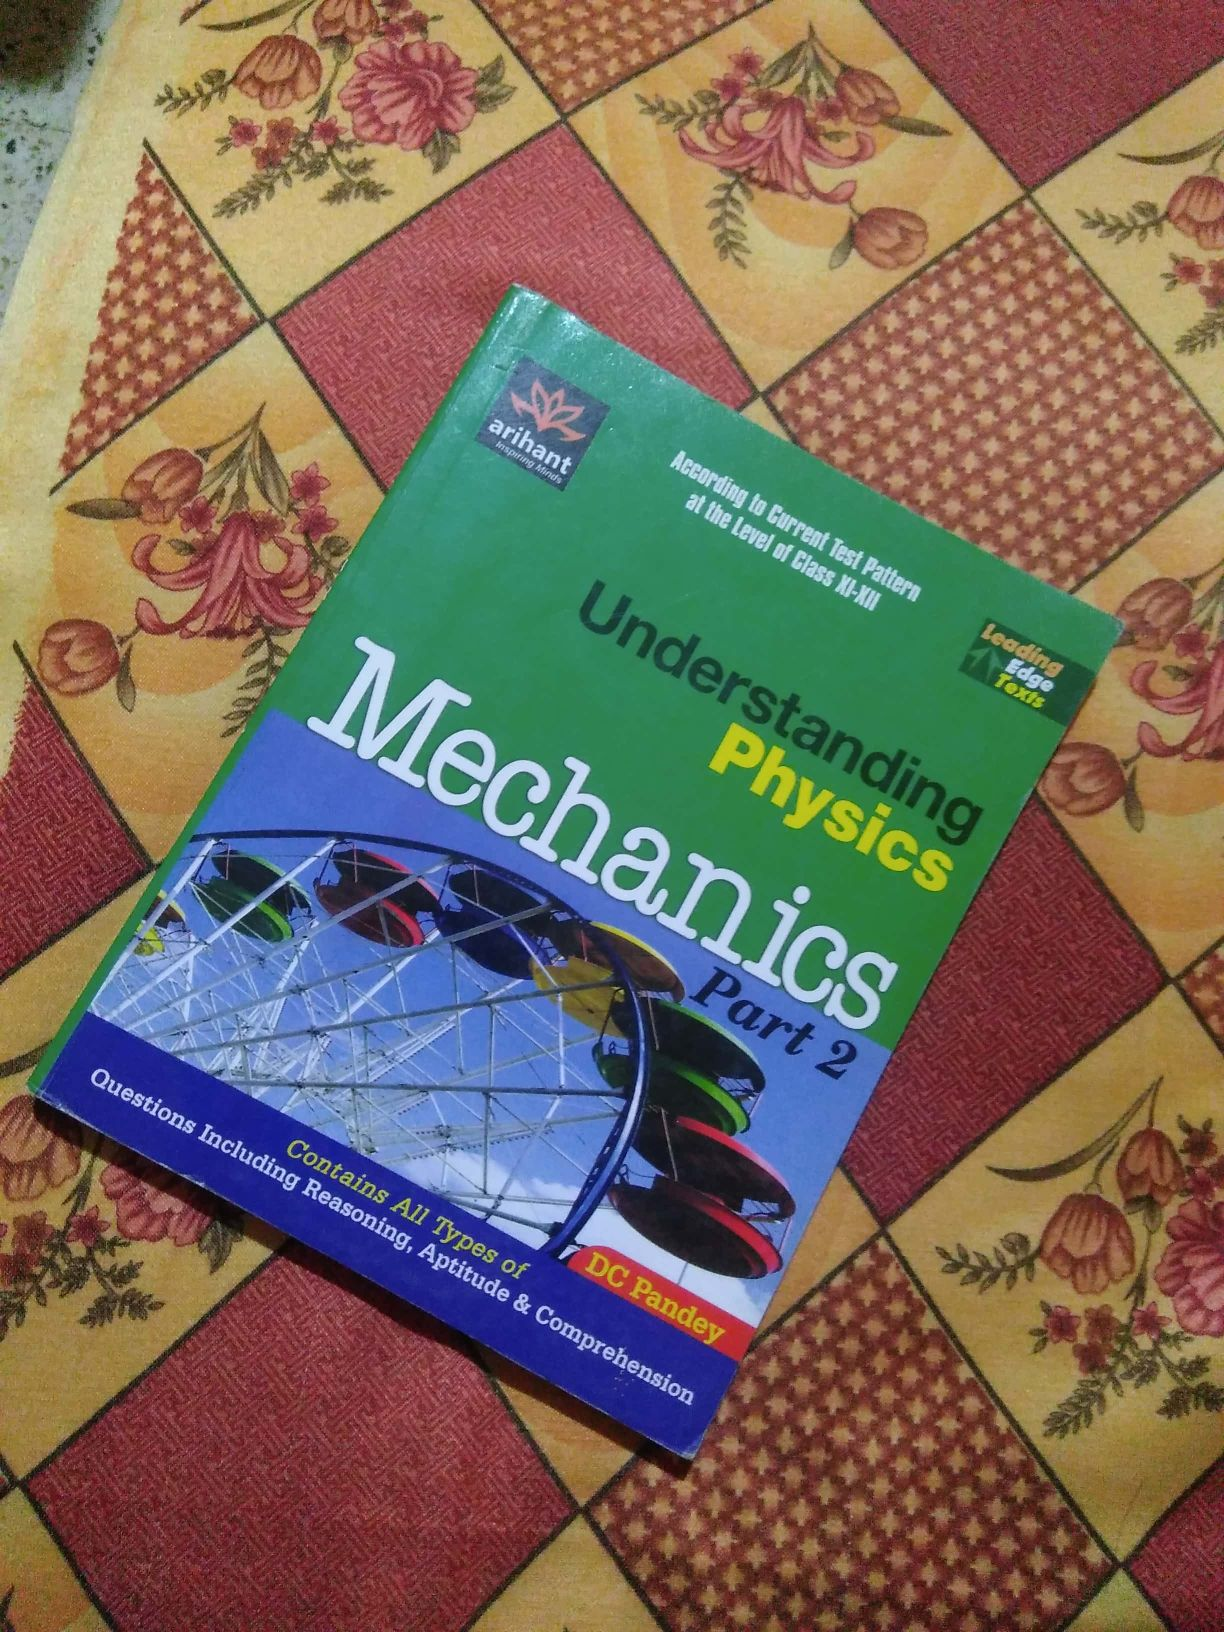mechanics: (117, 254, 1134, 1488)
